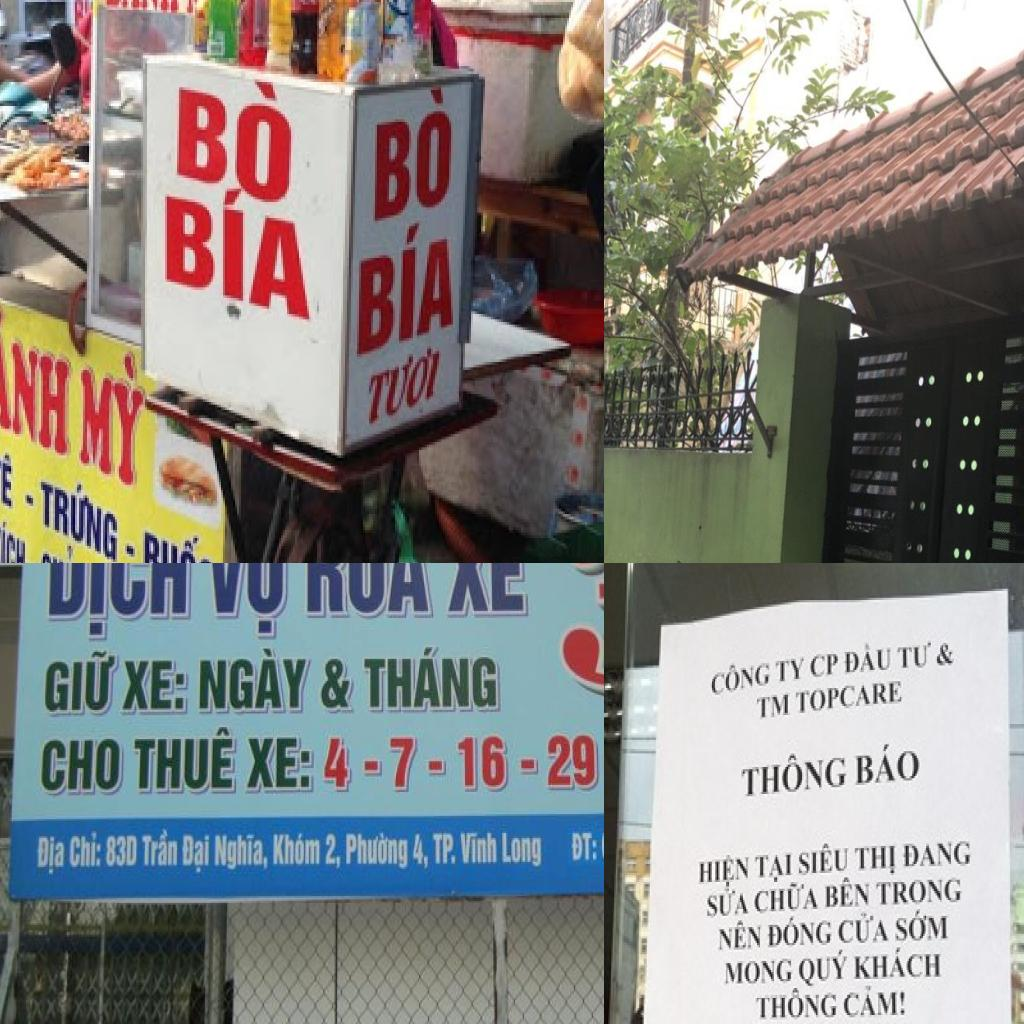text: (153, 167, 313, 322), (169, 68, 305, 212), (351, 215, 457, 362), (0, 287, 77, 457), (75, 327, 153, 493), (367, 84, 455, 228), (46, 563, 192, 638), (364, 647, 501, 713), (198, 645, 316, 715), (39, 466, 123, 563), (363, 341, 445, 431), (132, 726, 237, 796), (306, 563, 434, 619), (737, 742, 850, 803), (207, 563, 288, 639), (36, 739, 126, 797), (44, 648, 119, 717), (446, 563, 529, 618), (794, 677, 908, 717), (244, 736, 314, 794), (141, 513, 221, 563), (120, 659, 188, 715), (752, 983, 839, 1024), (875, 873, 966, 911), (853, 740, 923, 789), (853, 948, 945, 984), (706, 654, 774, 702), (546, 732, 600, 792), (765, 909, 836, 952), (723, 952, 796, 992), (458, 734, 508, 792), (754, 878, 824, 918), (696, 848, 752, 896), (893, 904, 951, 948), (799, 948, 853, 992), (344, 833, 408, 870), (214, 834, 271, 874), (797, 837, 850, 880), (903, 841, 974, 871), (836, 912, 895, 948), (822, 873, 875, 913), (319, 656, 354, 714), (273, 831, 322, 872), (715, 916, 765, 956), (842, 641, 894, 679), (319, 736, 353, 794), (853, 841, 900, 880), (704, 886, 754, 920), (754, 846, 796, 886), (390, 737, 418, 794), (501, 831, 543, 869), (141, 829, 180, 869), (896, 636, 936, 675), (0, 431, 19, 513), (754, 688, 793, 726), (0, 513, 29, 563), (69, 831, 103, 871), (460, 832, 500, 866), (181, 831, 211, 876), (36, 833, 66, 877), (774, 652, 808, 686), (39, 532, 75, 563), (105, 835, 139, 867), (810, 648, 841, 682), (569, 831, 598, 864), (69, 0, 97, 31), (432, 833, 457, 867), (324, 831, 344, 871), (363, 760, 383, 778), (427, 758, 447, 776), (519, 758, 538, 775)
